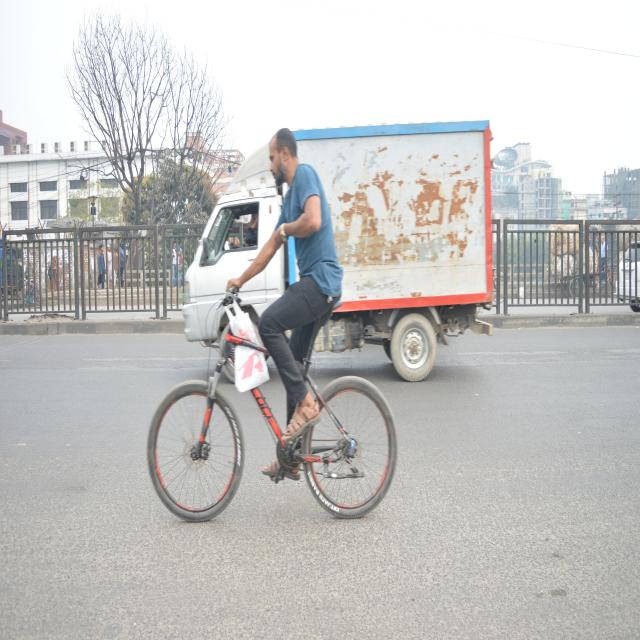car: (611, 234, 640, 312)
pickup-van: (177, 117, 497, 402)
